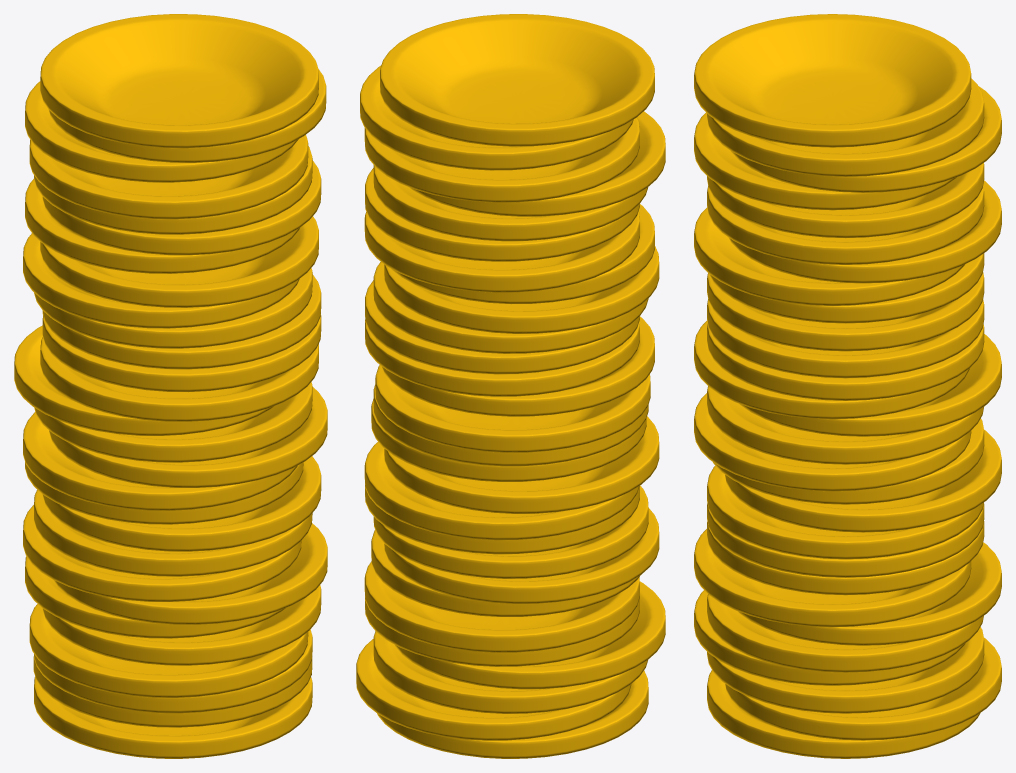
Rendered from platos.fbx.
3 views of the same model, side by side, from view 1: azimuth 30°, elevation 25°; view 2: azimuth 150°, elevation 25°; view 3: azimuth 270°, elevation 25° (orthographic).
Visible parts, largest first — view 1: platos; view 2: platos; view 3: platos.
Boxes of the visible parts, x1,y1,x2,y2 form: platos: [14, 14, 327, 758]; platos: [356, 14, 665, 758]; platos: [694, 14, 1001, 758].
Size of the model in its own units: 2.18 by 5.12 by 2.19.
